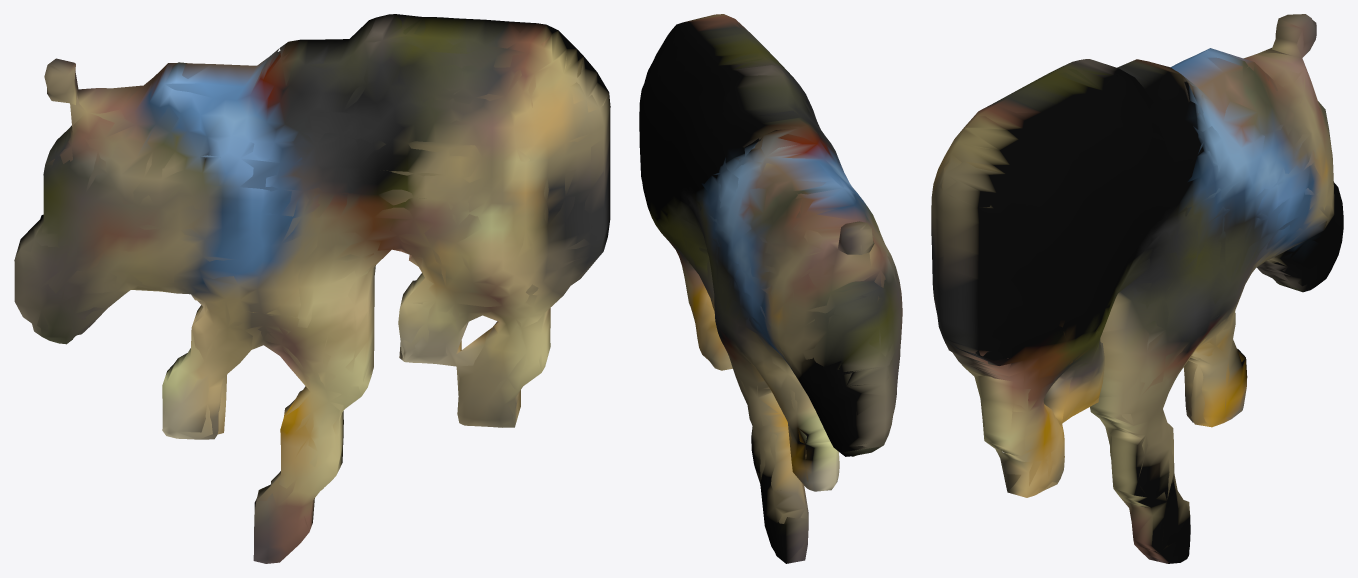
File: scout.glb
3 views of the same model, side by side, from view 1: azimuth 30°, elevation 25°; view 2: azimuth 150°, elevation 25°; view 3: azimuth 270°, elevation 25° (orthographic). The views are drawn at different scales.
Visible parts, largest first — view 1: allied_attack_dog; view 2: allied_attack_dog; view 3: allied_attack_dog.
Boxes of the visible parts, box(x1,y1,x2,y2) form: allied_attack_dog: box(14, 14, 610, 563); allied_attack_dog: box(639, 14, 902, 563); allied_attack_dog: box(931, 14, 1343, 563).
Size of the model in its own units: 1.68 by 2.01 by 1.4.
